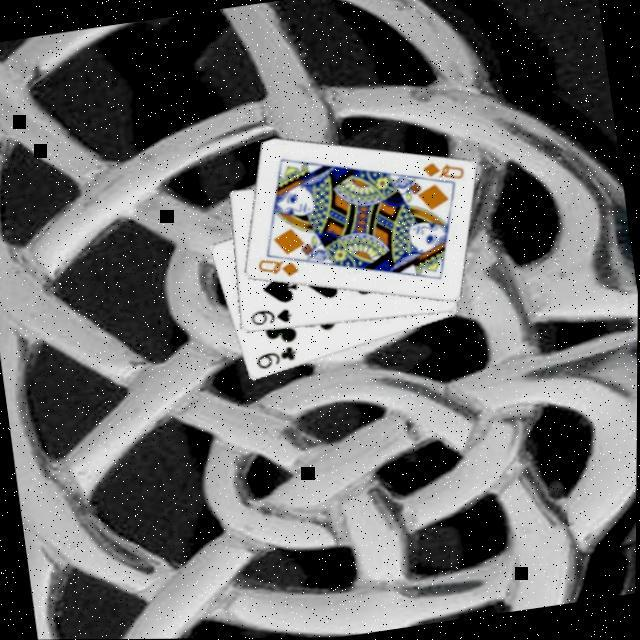9C: (251, 345, 300, 376)
9S: (246, 305, 294, 332)
QD: (252, 253, 301, 287), (417, 157, 466, 190)
